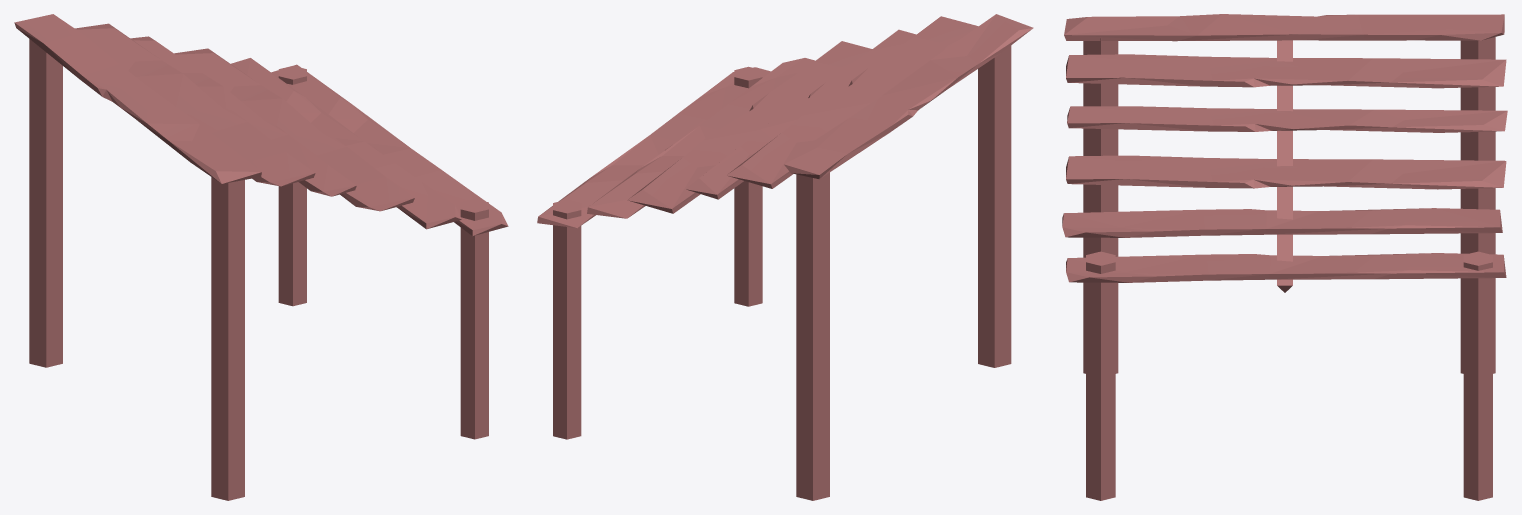
The model's file is platformLeanShip.glb.
The picture shows the model from 3 angles, left to right: view 1: azimuth 30°, elevation 25°; view 2: azimuth 150°, elevation 25°; view 3: azimuth 270°, elevation 25°; orthographic projection. The views are drawn at different scales.
Parts seen in each view (by area): view 1: Line044; view 2: Line044; view 3: Line044.
Boxes of the visible parts, <box> form: Line044: <box>14,14,508,500</box>; Line044: <box>537,14,1033,500</box>; Line044: <box>1062,14,1507,500</box>.
Bounding box in the file's own units: 2.5 × 2.74 × 3.2.
